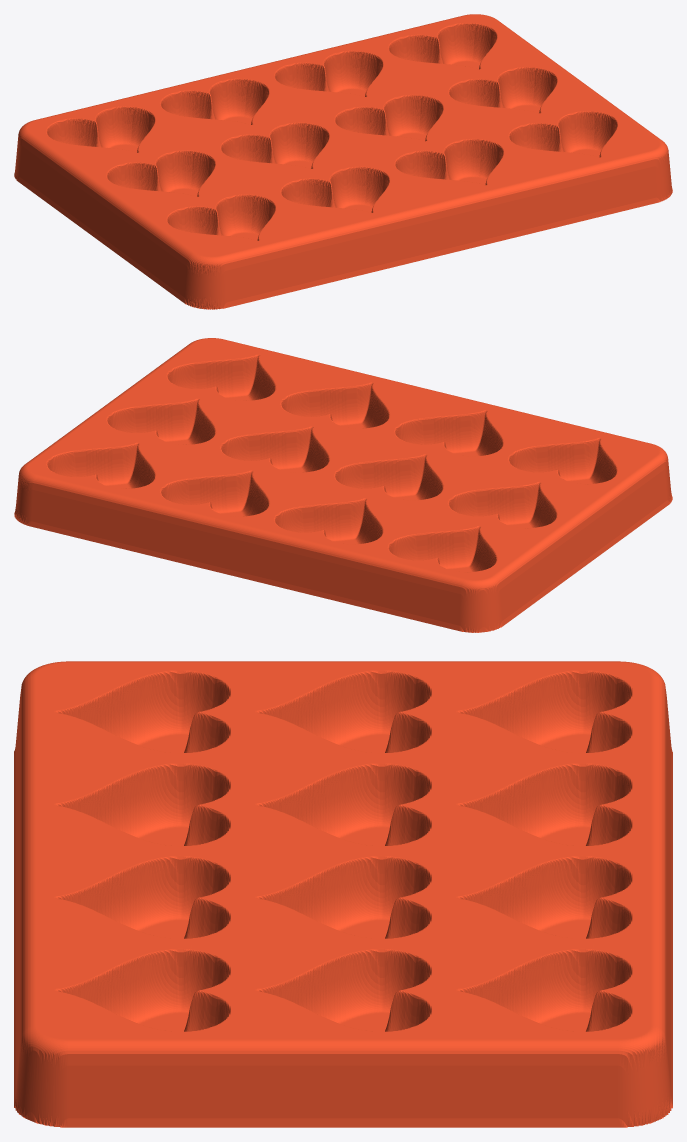
File: mold.glb
3 views of the same model, one above another, from view 1: azimuth 30°, elevation 25°; view 2: azimuth 150°, elevation 25°; view 3: azimuth 270°, elevation 25° (orthographic). The views are drawn at different scales.
Parts seen in each view (by area): view 1: geometry_0; view 2: geometry_0; view 3: geometry_0.
Boxes of the visible parts, bbox=[...] form: geometry_0: bbox=[14, 14, 672, 309]; geometry_0: bbox=[14, 338, 672, 632]; geometry_0: bbox=[14, 661, 672, 1127].
Size of the model in its own units: 0.1558 by 0.0145 by 0.1098.
